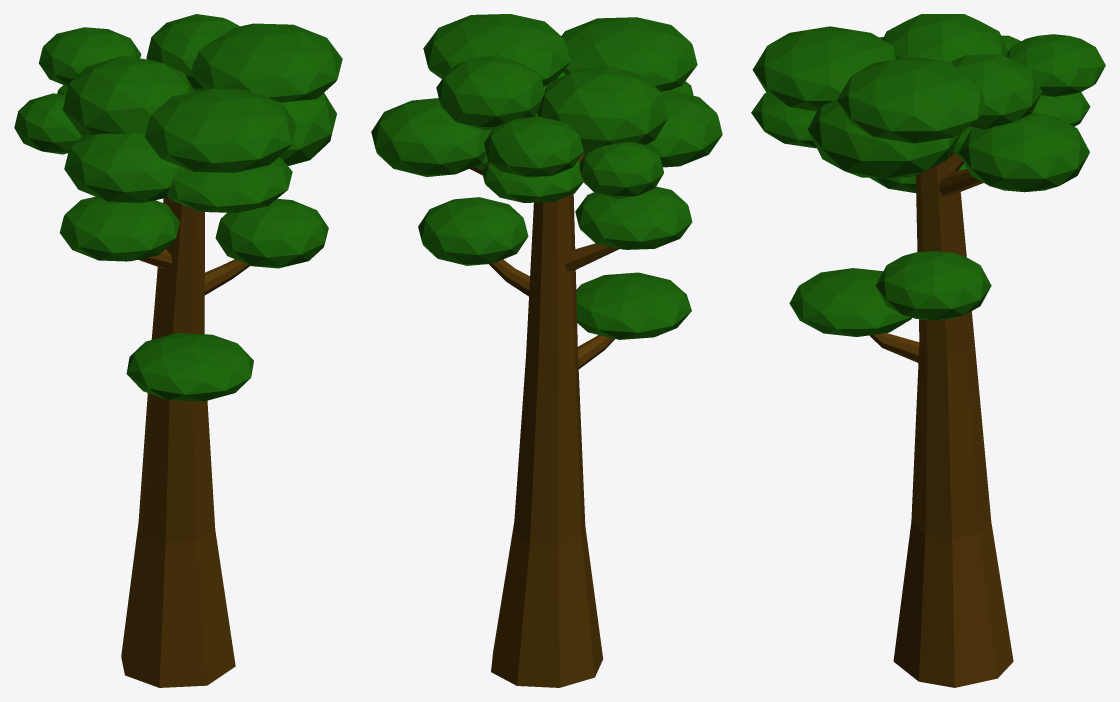
File: jungle boom 2.fbx
3 renders of one model, left to right at view 1: azimuth 30°, elevation 25°; view 2: azimuth 150°, elevation 25°; view 3: azimuth 270°, elevation 25°, orthographic. The views are drawn at different scales.
Visible parts, largest first — view 1: Icosphere.001; view 2: Icosphere.001; view 3: Icosphere.001.
Boxes of the visible parts, x1,y1,x2,y2 form: Icosphere.001: (14, 14, 342, 687); Icosphere.001: (371, 14, 722, 687); Icosphere.001: (751, 14, 1105, 687).
Bounding box in the file's own units: 6.08 × 13.4 × 6.89.
